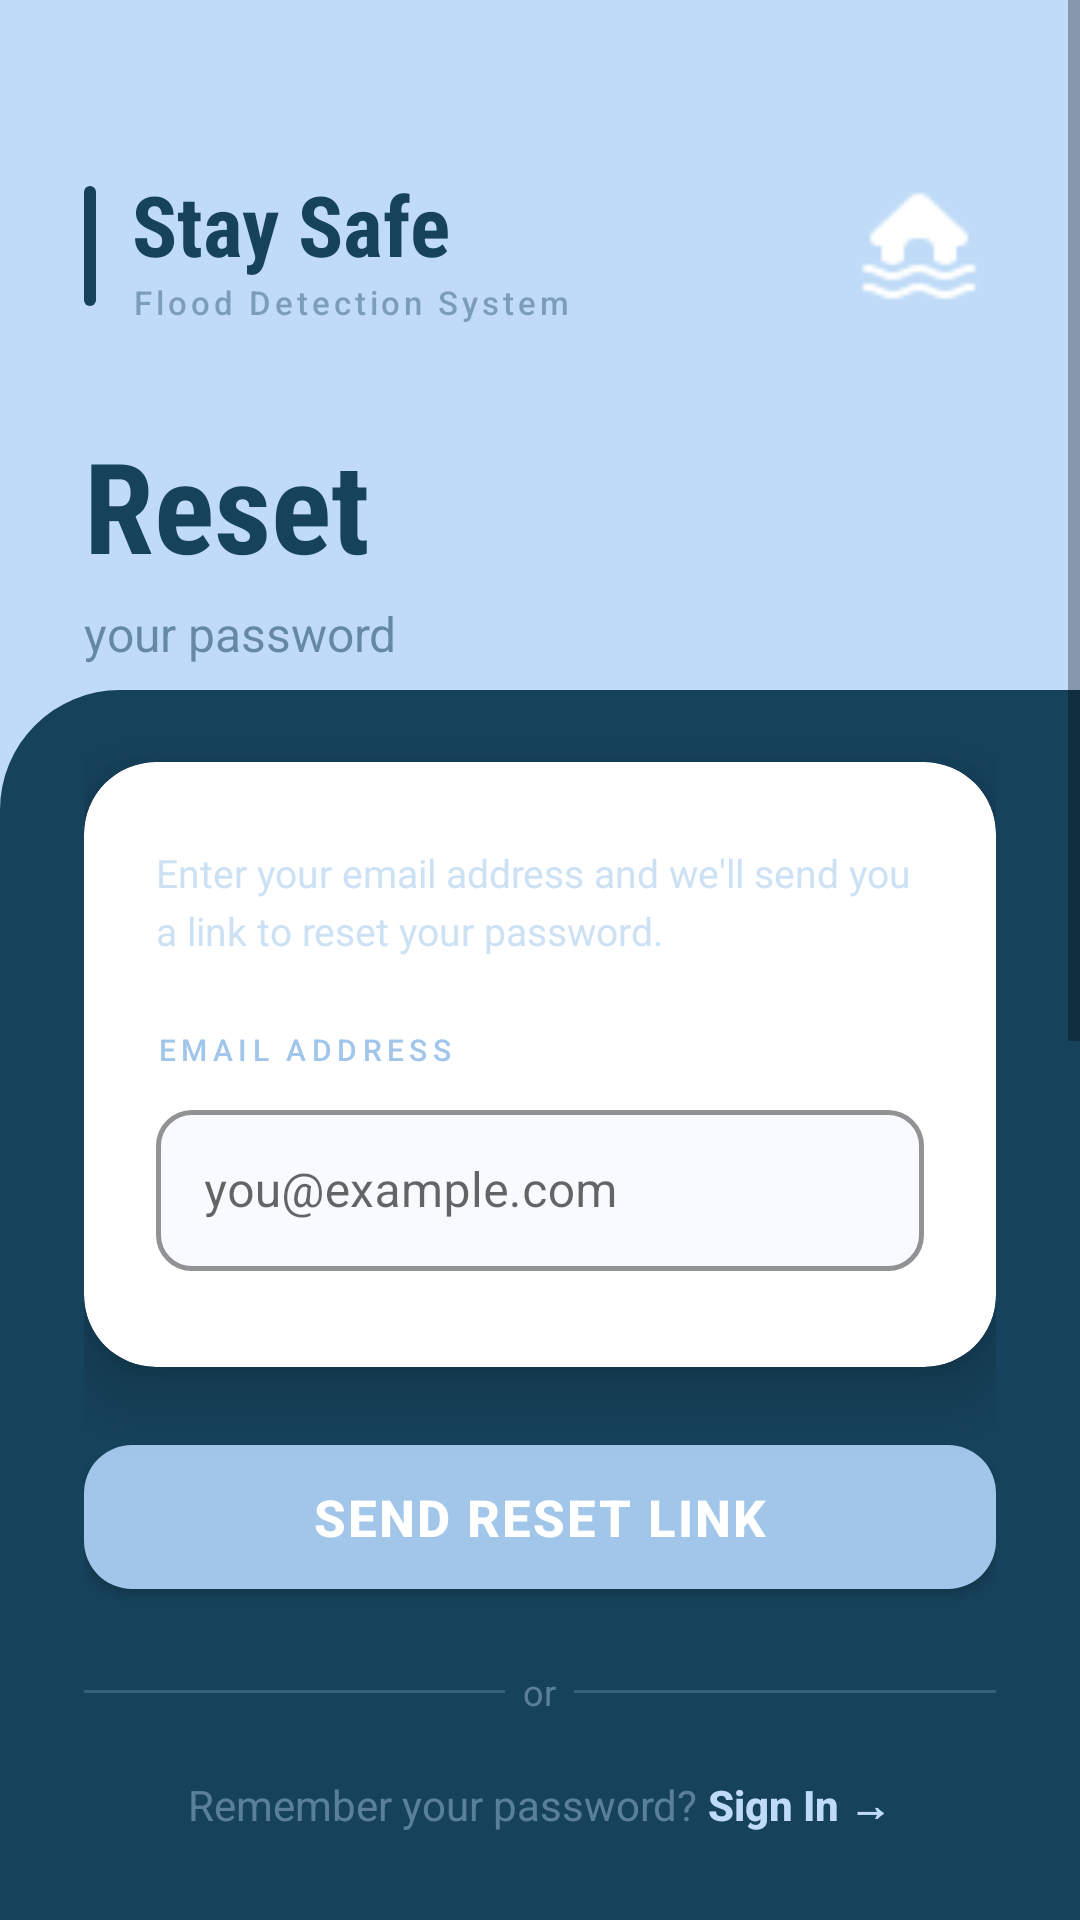

Screen size 1080x1920. Icon name, then its center in pixels as point (x, y):
floodedhousemini: point (919, 246)
